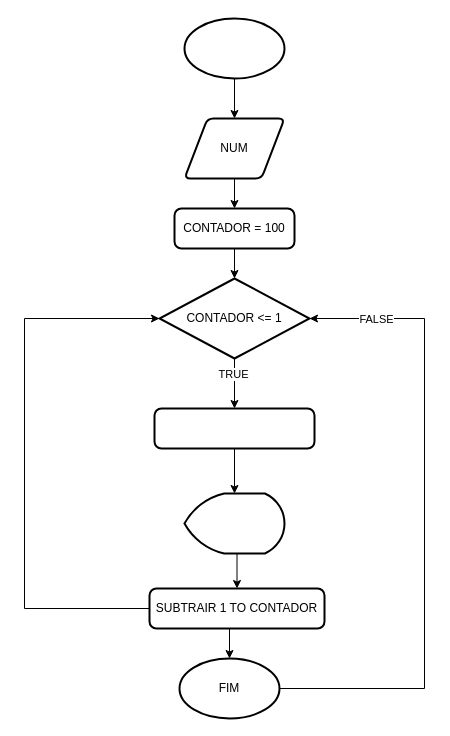
Image size: 450x736. Some labels were removed from this diagram. Each missing label, with the box of its shape:
INICIO: (183, 17, 285, 79)
RES: (183, 492, 285, 554)
RES = NUM * CONTADOR: (153, 407, 315, 449)
